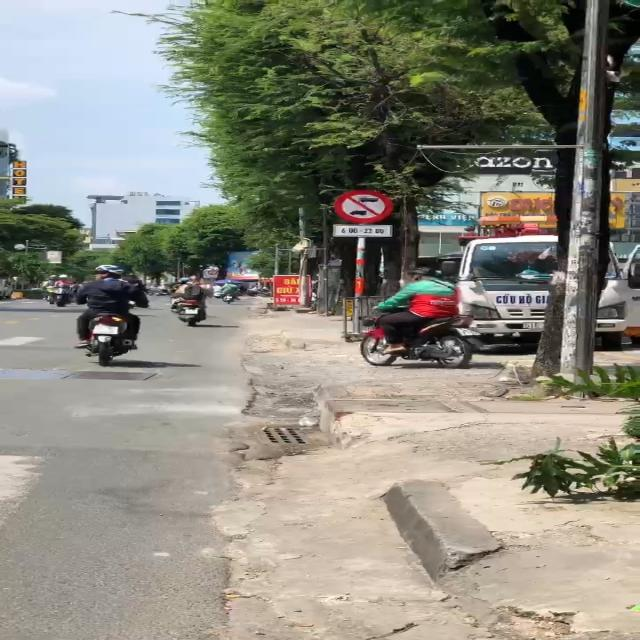Bien bao cam xe oto khach va xe oto tai: (326, 186, 404, 225)
